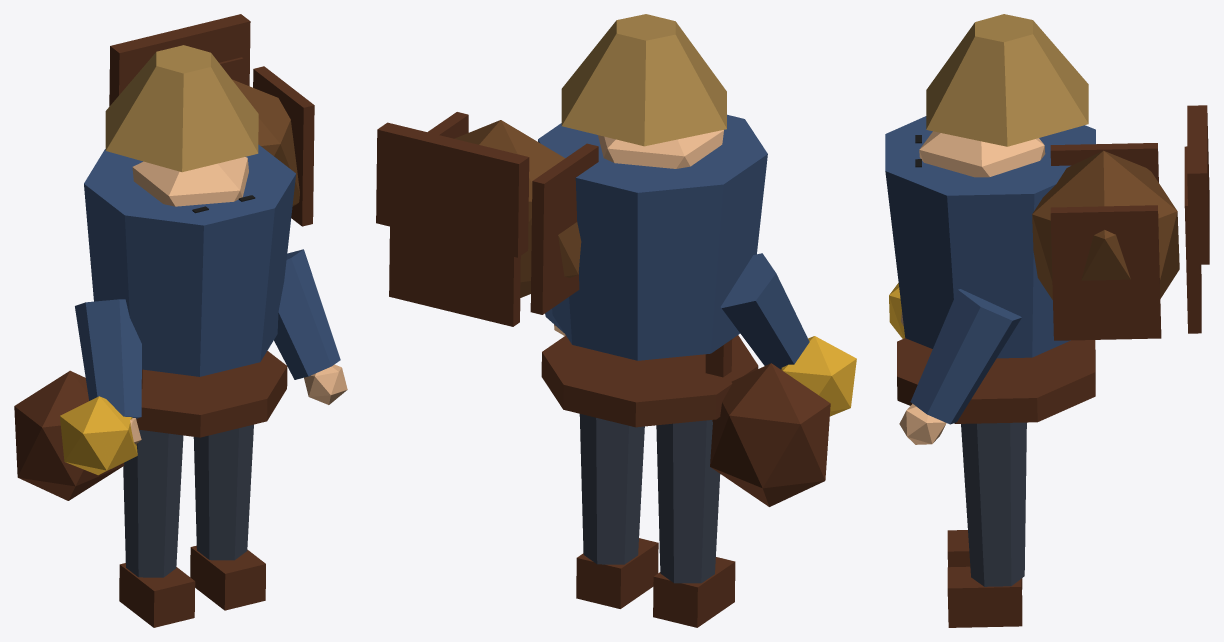
The model's file is npcpose_merchant_walk_11.glb.
3 views of the same model, side by side, from view 1: azimuth 30°, elevation 25°; view 2: azimuth 150°, elevation 25°; view 3: azimuth 270°, elevation 25° (orthographic). The views are drawn at different scales.
Parts seen in each view (by area): view 1: npcpose; view 2: npcpose; view 3: npcpose.
Part boxes in pixels (left/top/right/bottom): npcpose: left=14, top=14, right=347, bottom=627; npcpose: left=376, top=14, right=856, bottom=627; npcpose: left=885, top=14, right=1209, bottom=627.
Bounding box in the file's own units: 1.2 × 1.88 × 0.9669.
